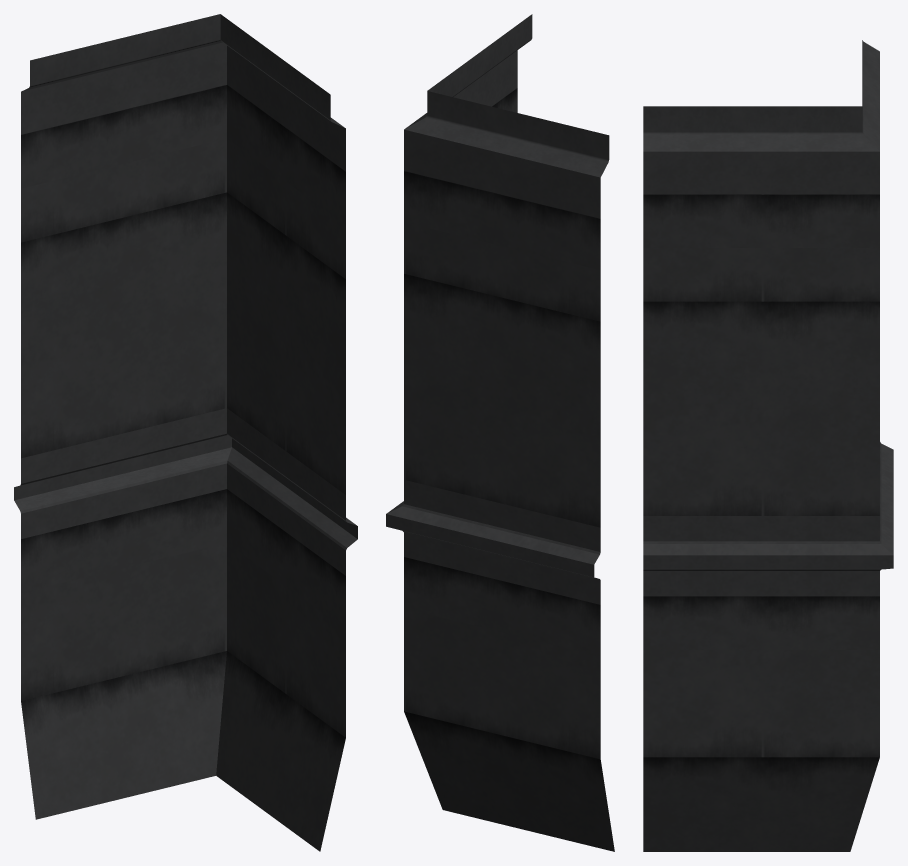
The model's file is M_Wall_Concave_Corner_4x14_v4.fbx.
3 renders of one model, left to right at view 1: azimuth 30°, elevation 25°; view 2: azimuth 150°, elevation 25°; view 3: azimuth 270°, elevation 25°, orthographic. The views are drawn at different scales.
Visible parts, largest first — view 1: Wall_Corner_Concave_4x14_v4; view 2: Wall_Corner_Concave_4x14_v4; view 3: Wall_Corner_Concave_4x14_v4.
Part boxes in pixels (<box>): Wall_Corner_Concave_4x14_v4: <box>14,14,357,851</box>; Wall_Corner_Concave_4x14_v4: <box>386,14,614,851</box>; Wall_Corner_Concave_4x14_v4: <box>643,40,893,851</box>.
Size of the model in its own units: 423 by 1400 by 423.
